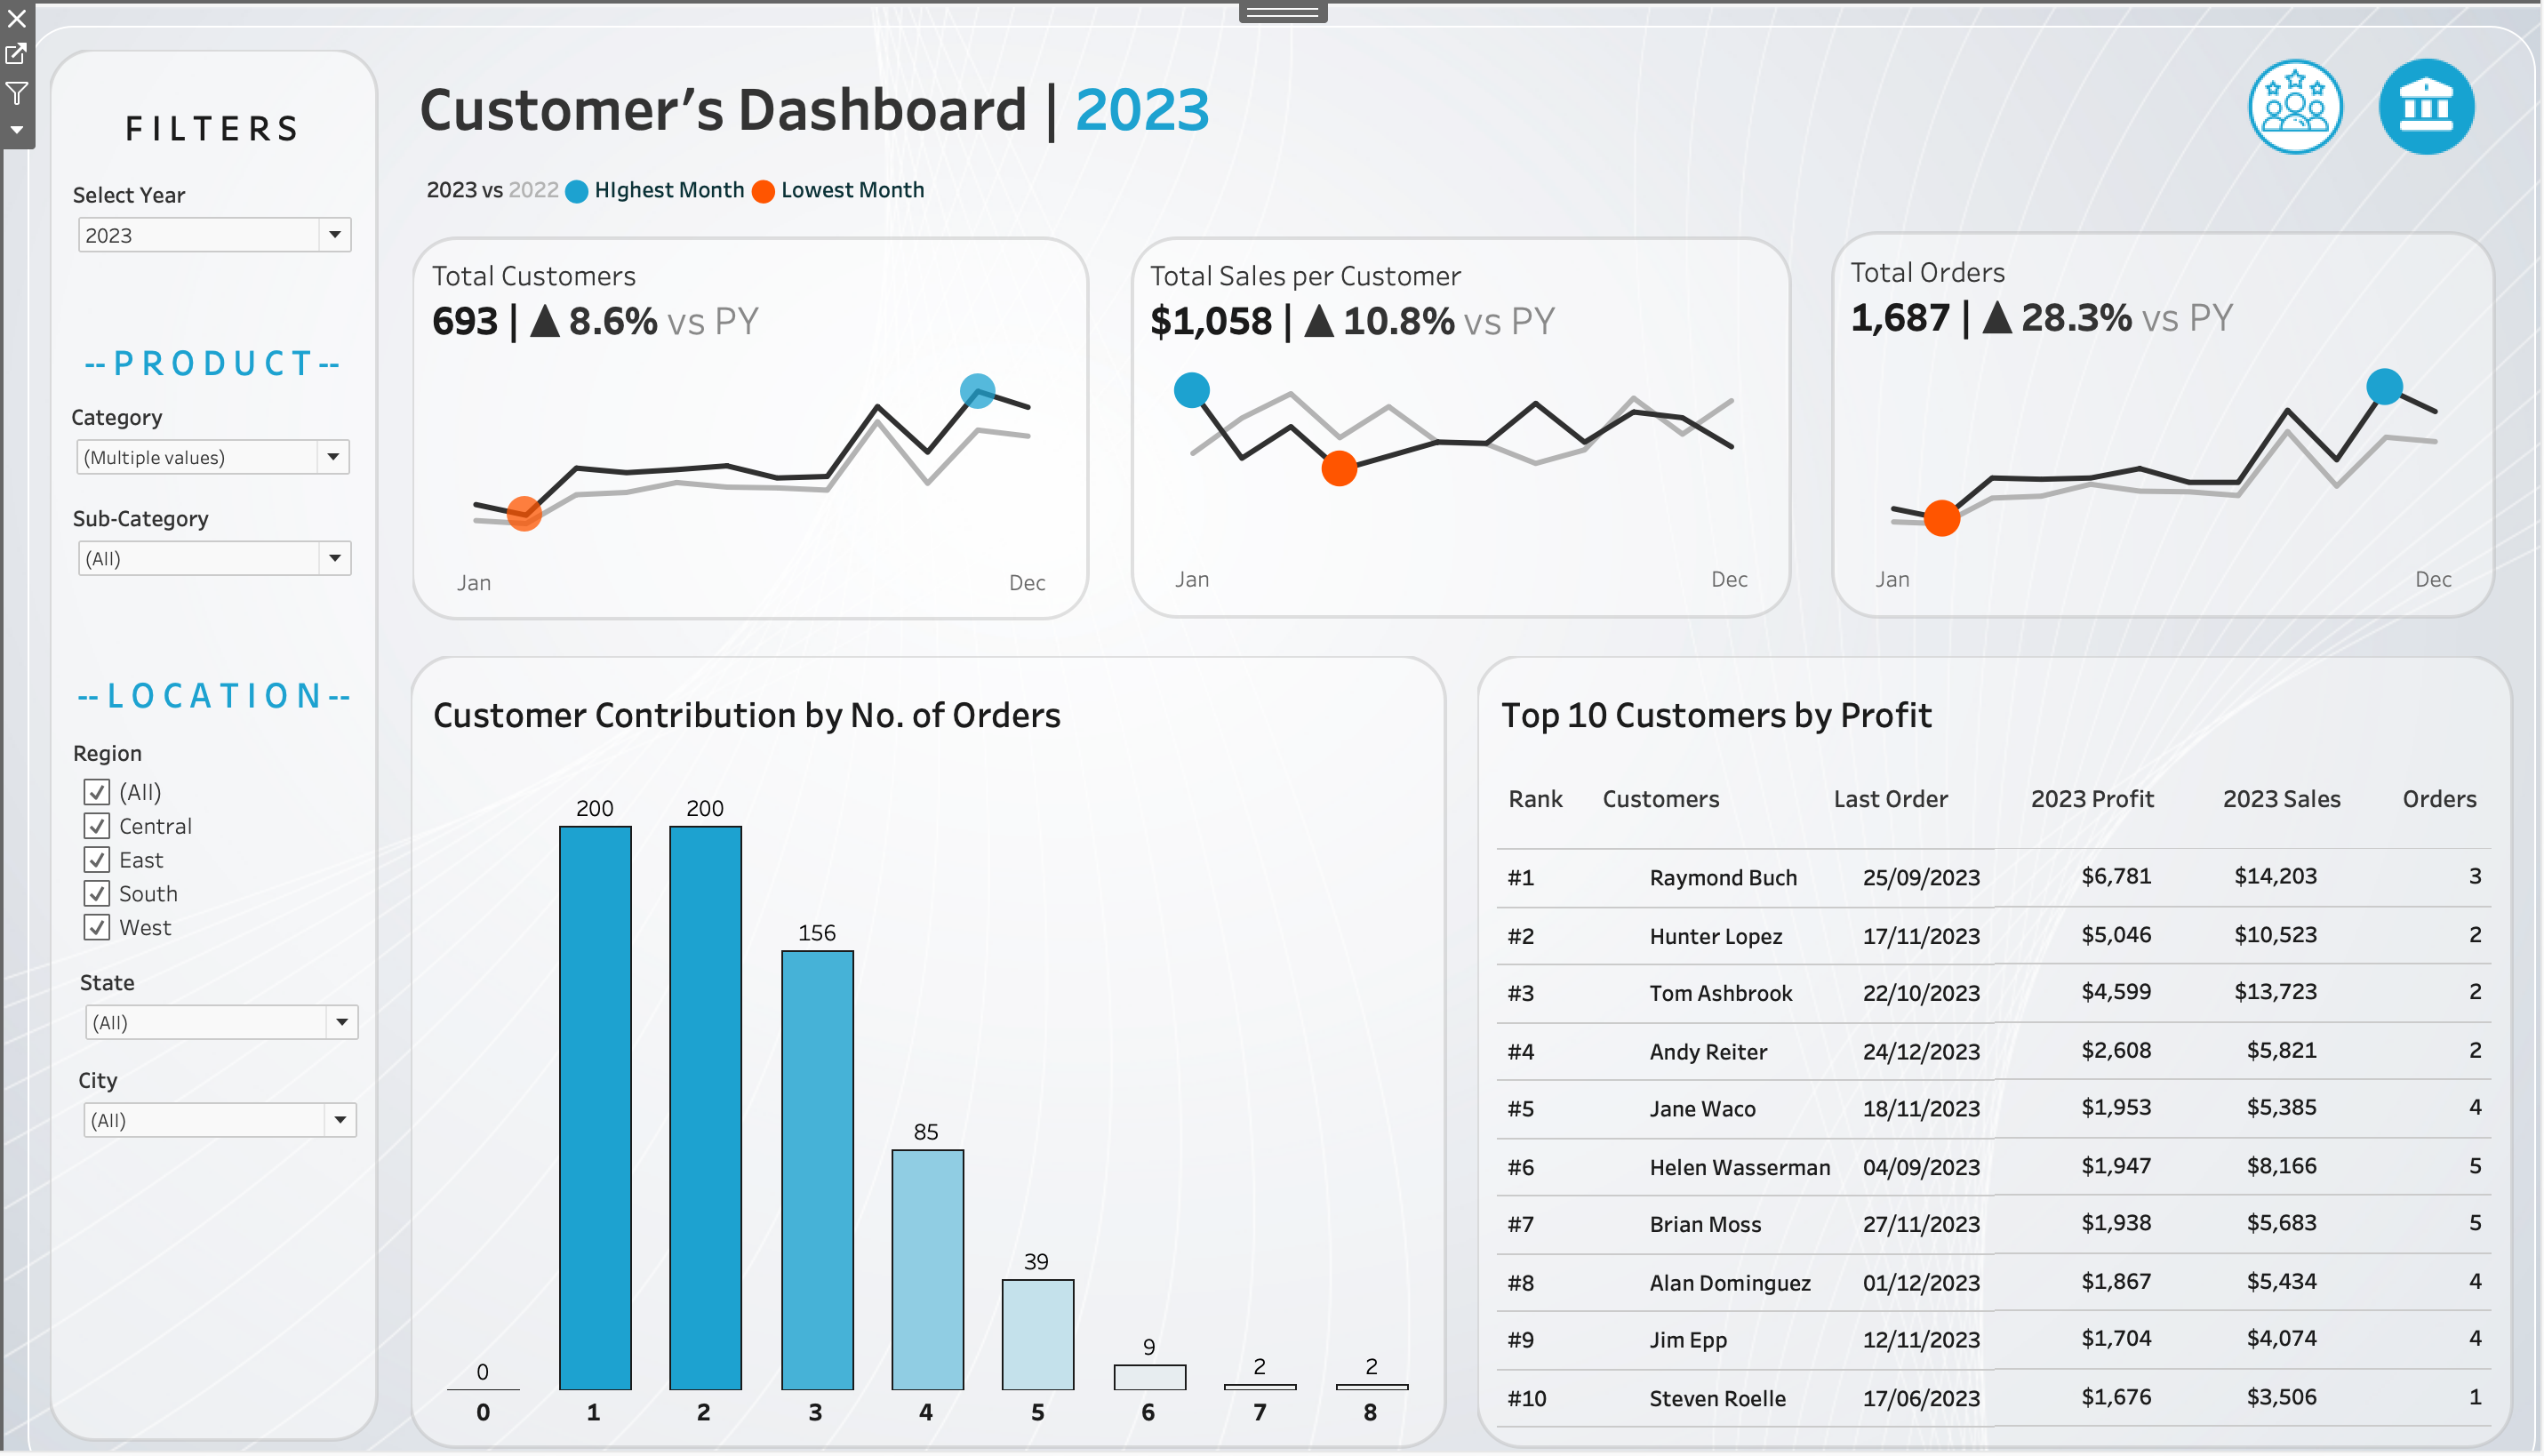

The dashboard page shown, as its layout file describes it:
{"tool":"tableau","page":{"name":"Customer Dashboard","canvas":[1445,850],"ordinal":0},"visuals":[{"type":"legend","title":"Customer Distribution","param":"[federated.07qp0fw10lqoh81cjkq750lq2iyj].[ctd:Calculation_243968463930339328:qk]","box":[0,0,1445,850]},{"type":"image","param":"/Users/abhishek/Documents/Assignment_1_tableau/sales-dashboard-project/Backgroun","box":[0,0,1445,850]},{"type":"worksheet","title":"background_main","mark":"Automatic","box":[0,0,1445,850]},{"type":"worksheet","title":"background_filter","mark":"Automatic","box":[24,24,193,793]},{"type":"image","param":"/Users/abhishek/Downloads/ChatGPT Image May 23, 2026, 11_57_51 AM.png","box":[229,28,78,64]},{"type":"text","box":[307,28,966,64]},{"type":"dashboard-object","box":[1273,28,65,64]},{"type":"dashboard-object","box":[1338,28,64,64]},{"type":"text","box":[62,56,114,31]},{"type":"worksheet","title":"Legend KPI","mark":"Automatic","box":[232,87,1059,39]},{"type":"parameter","param":"[Parameters].[Parameter 1]","box":[41,101,160,44]},{"type":"worksheet","title":"bg_KPI1","mark":"Automatic","box":[228,123,396,237]},{"type":"worksheet","title":"bg_KPI2","mark":"Automatic","box":[624,123,396,237]},{"type":"worksheet","title":"bg_KPI3","mark":"Automatic","box":[1020,123,396,237]},{"type":"worksheet","title":"KPI Oders","mark":"Automatic","rows":["Calculation_243968463958540305"],"cols":["Order Date"],"box":[1037,138,360,202]},{"type":"worksheet","title":"KPI Customers","mark":"Automatic","rows":["Calculation_243968463938838533"],"cols":["Order Date"],"box":[239,140,367,202]},{"type":"worksheet","title":"KPI Sales Per Customer","mark":"Automatic","rows":["Calculation_243968463958421520"],"cols":["Order Date"],"box":[643,140,358,200]},{"type":"text","box":[36,187,167,32]},{"type":"filter","title":"KPI Customers","param":"[federated.07qp0fw10lqoh81cjkq750lq2iyj].[none:Category:nk]","box":[40,226,160,50]},{"type":"filter","title":"KPI Customers","param":"[federated.07qp0fw10lqoh81cjkq750lq2iyj].[none:Sub-Category:nk]","box":[41,283,160,50]},{"type":"worksheet","title":"background CL","mark":"Automatic","box":[227,350,600,480]},{"type":"worksheet","title":"background CR Cust","mark":"Automatic","box":[827,350,600,480]},{"type":"text","box":[32,374,177,32]},{"type":"text","box":[237,375,570,53]},{"type":"text","box":[838,377,568,48]},{"type":"filter","title":"KPI Customers","param":"[federated.07qp0fw10lqoh81cjkq750lq2iyj].[none:Region:nk]","box":[41,415,160,119]},{"type":"worksheet","title":"Customer Distribution","mark":"Bar","rows":["Calculation_243968463930339328"],"cols":["Calculation_243968463957475340"],"box":[237,428,570,380]},{"type":"text","box":[842,429,53,40]},{"type":"text","box":[895,429,130,40]},{"type":"text","box":[1025,429,111,40]},{"type":"text","box":[1136,429,108,40]},{"type":"text","box":[1244,429,101,40]},{"type":"text","box":[1345,429,57,40]},{"type":"worksheet","title":"Top Customer","mark":"Automatic","rows":["Customer Name","Order Date"],"box":[838,473,568,334]},{"type":"filter","title":"KPI Customers","param":"[federated.07qp0fw10lqoh81cjkq750lq2iyj].[none:State:nk]","box":[45,544,160,50]},{"type":"filter","title":"KPI Customers","param":"[federated.07qp0fw10lqoh81cjkq750lq2iyj].[none:City:nk]","box":[44,599,160,50]}]}

Visuals, with their boxes on the page's 1445x850 design canvas (x1, y1, x2, y2). These are canvas units, not pixel positions in the 2544x1456 screenshot, which may show the page scaled, cropped or inside an application window:
"Customer Distribution" legend: bbox=[0, 0, 1445, 850]
image: bbox=[0, 0, 1445, 850]
"background_main" worksheet: bbox=[0, 0, 1445, 850]
"background_filter" worksheet: bbox=[24, 24, 217, 817]
image: bbox=[229, 28, 307, 92]
text: bbox=[307, 28, 1273, 92]
dashboard-object: bbox=[1273, 28, 1338, 92]
dashboard-object: bbox=[1338, 28, 1402, 92]
text: bbox=[62, 56, 176, 87]
"Legend KPI" worksheet: bbox=[232, 87, 1291, 126]
parameter: bbox=[41, 101, 201, 145]
"bg_KPI1" worksheet: bbox=[228, 123, 624, 360]
"bg_KPI2" worksheet: bbox=[624, 123, 1020, 360]
"bg_KPI3" worksheet: bbox=[1020, 123, 1416, 360]
"KPI Oders" worksheet: bbox=[1037, 138, 1397, 340]
"KPI Customers" worksheet: bbox=[239, 140, 606, 342]
"KPI Sales Per Customer" worksheet: bbox=[643, 140, 1001, 340]
text: bbox=[36, 187, 203, 219]
"KPI Customers" filter: bbox=[40, 226, 200, 276]
"KPI Customers" filter: bbox=[41, 283, 201, 333]
"background CL" worksheet: bbox=[227, 350, 827, 830]
"background CR Cust" worksheet: bbox=[827, 350, 1427, 830]
text: bbox=[32, 374, 209, 406]
text: bbox=[237, 375, 807, 428]
text: bbox=[838, 377, 1406, 425]
"KPI Customers" filter: bbox=[41, 415, 201, 534]
"Customer Distribution" worksheet (Bar marks): bbox=[237, 428, 807, 808]
text: bbox=[842, 429, 895, 469]
text: bbox=[895, 429, 1025, 469]
text: bbox=[1025, 429, 1136, 469]
text: bbox=[1136, 429, 1244, 469]
text: bbox=[1244, 429, 1345, 469]
text: bbox=[1345, 429, 1402, 469]
"Top Customer" worksheet: bbox=[838, 473, 1406, 807]
"KPI Customers" filter: bbox=[45, 544, 205, 594]
"KPI Customers" filter: bbox=[44, 599, 204, 649]
